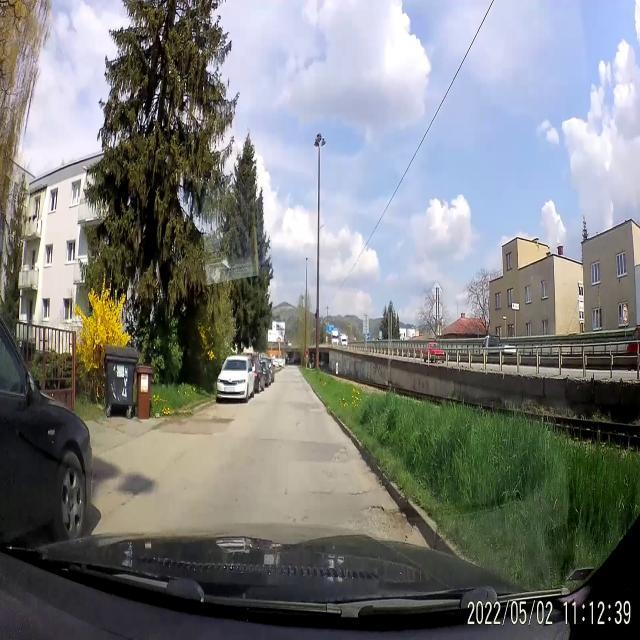Pothole: (346, 502, 412, 538), (328, 438, 350, 477)
